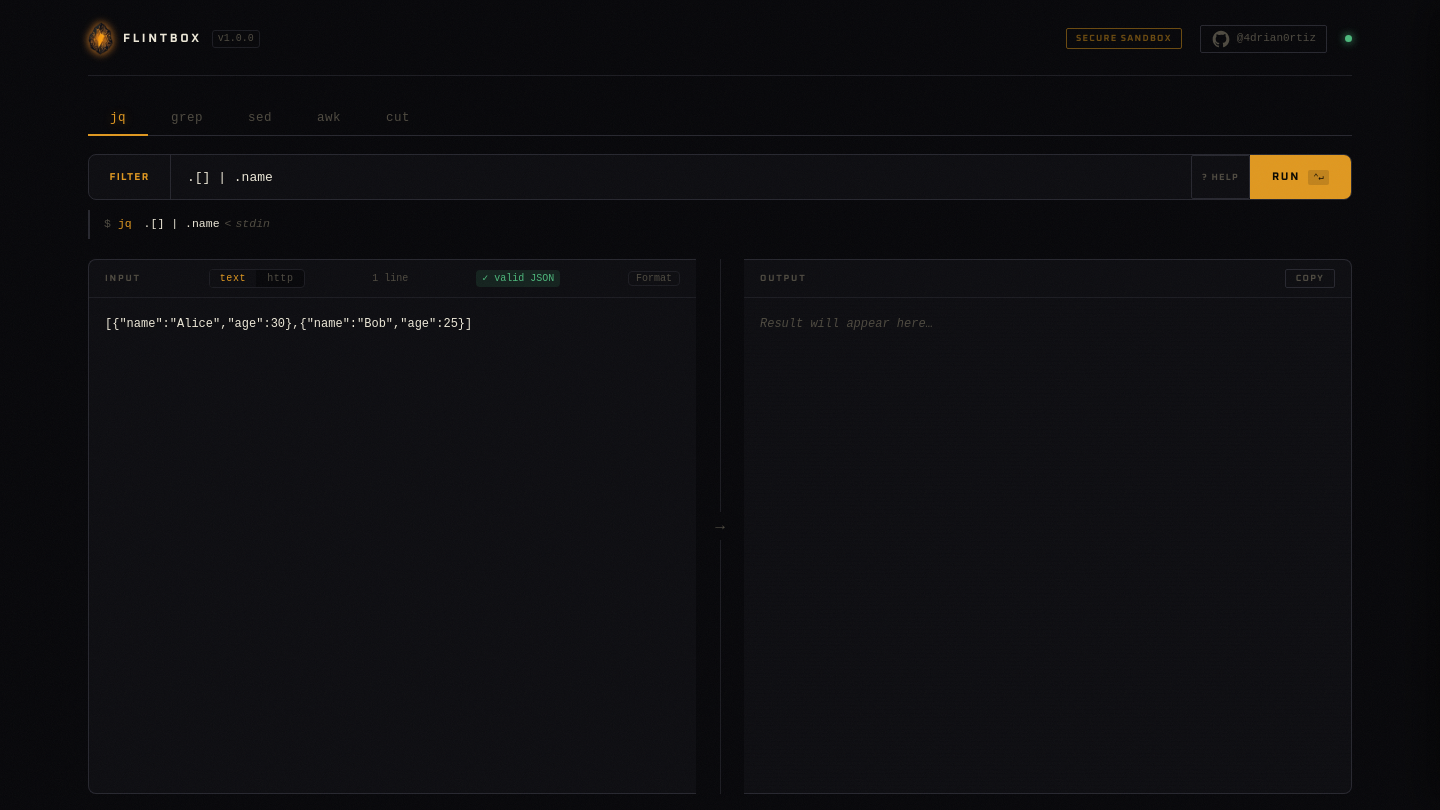
Scenario: <App /> container › reveals the HTTP fetch panel when the http source is selected
Click the tab "http" at {"x": 280, "y": 278}, box [257, 270, 304, 287]
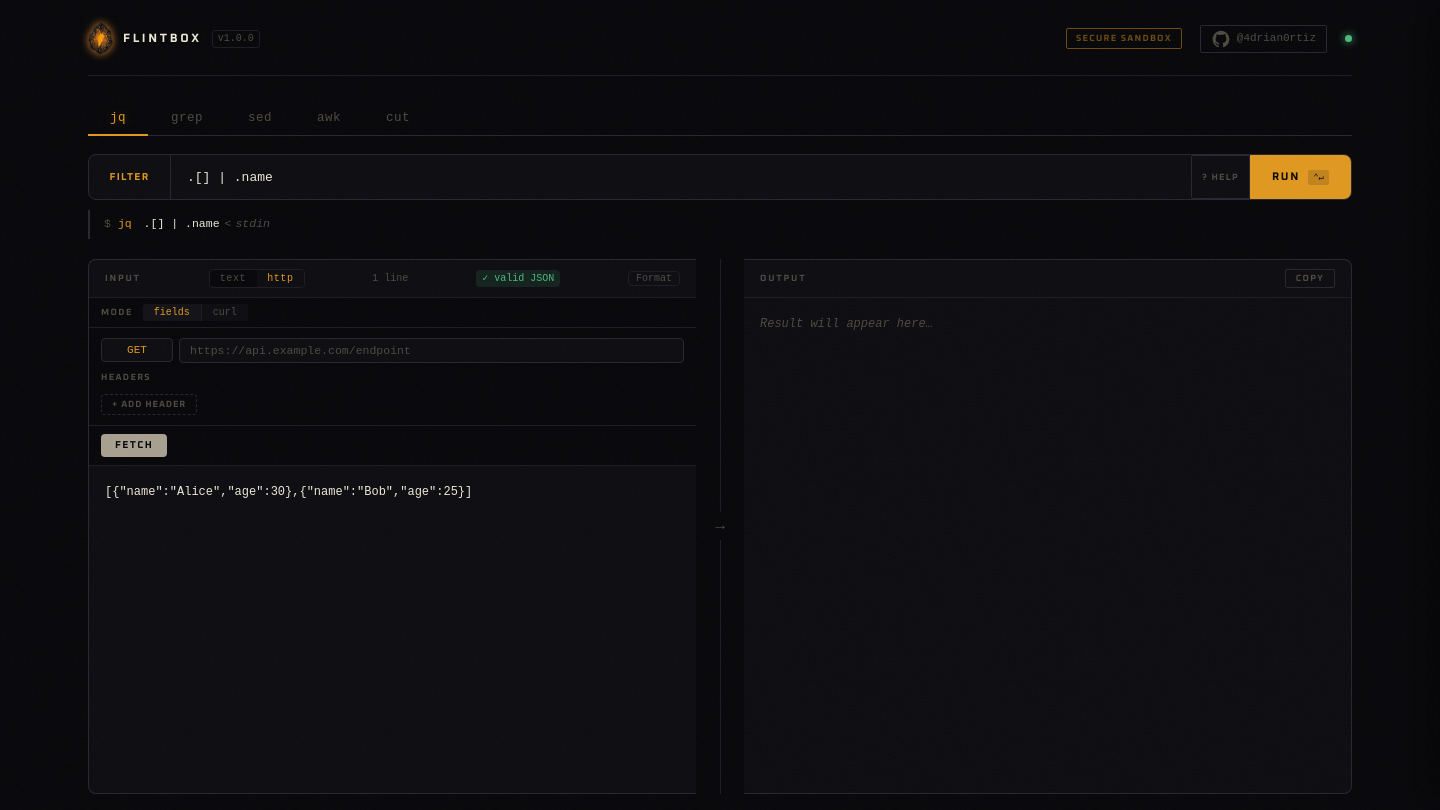
Check: the field named "Request URL" is shown, box [179, 338, 684, 363]
